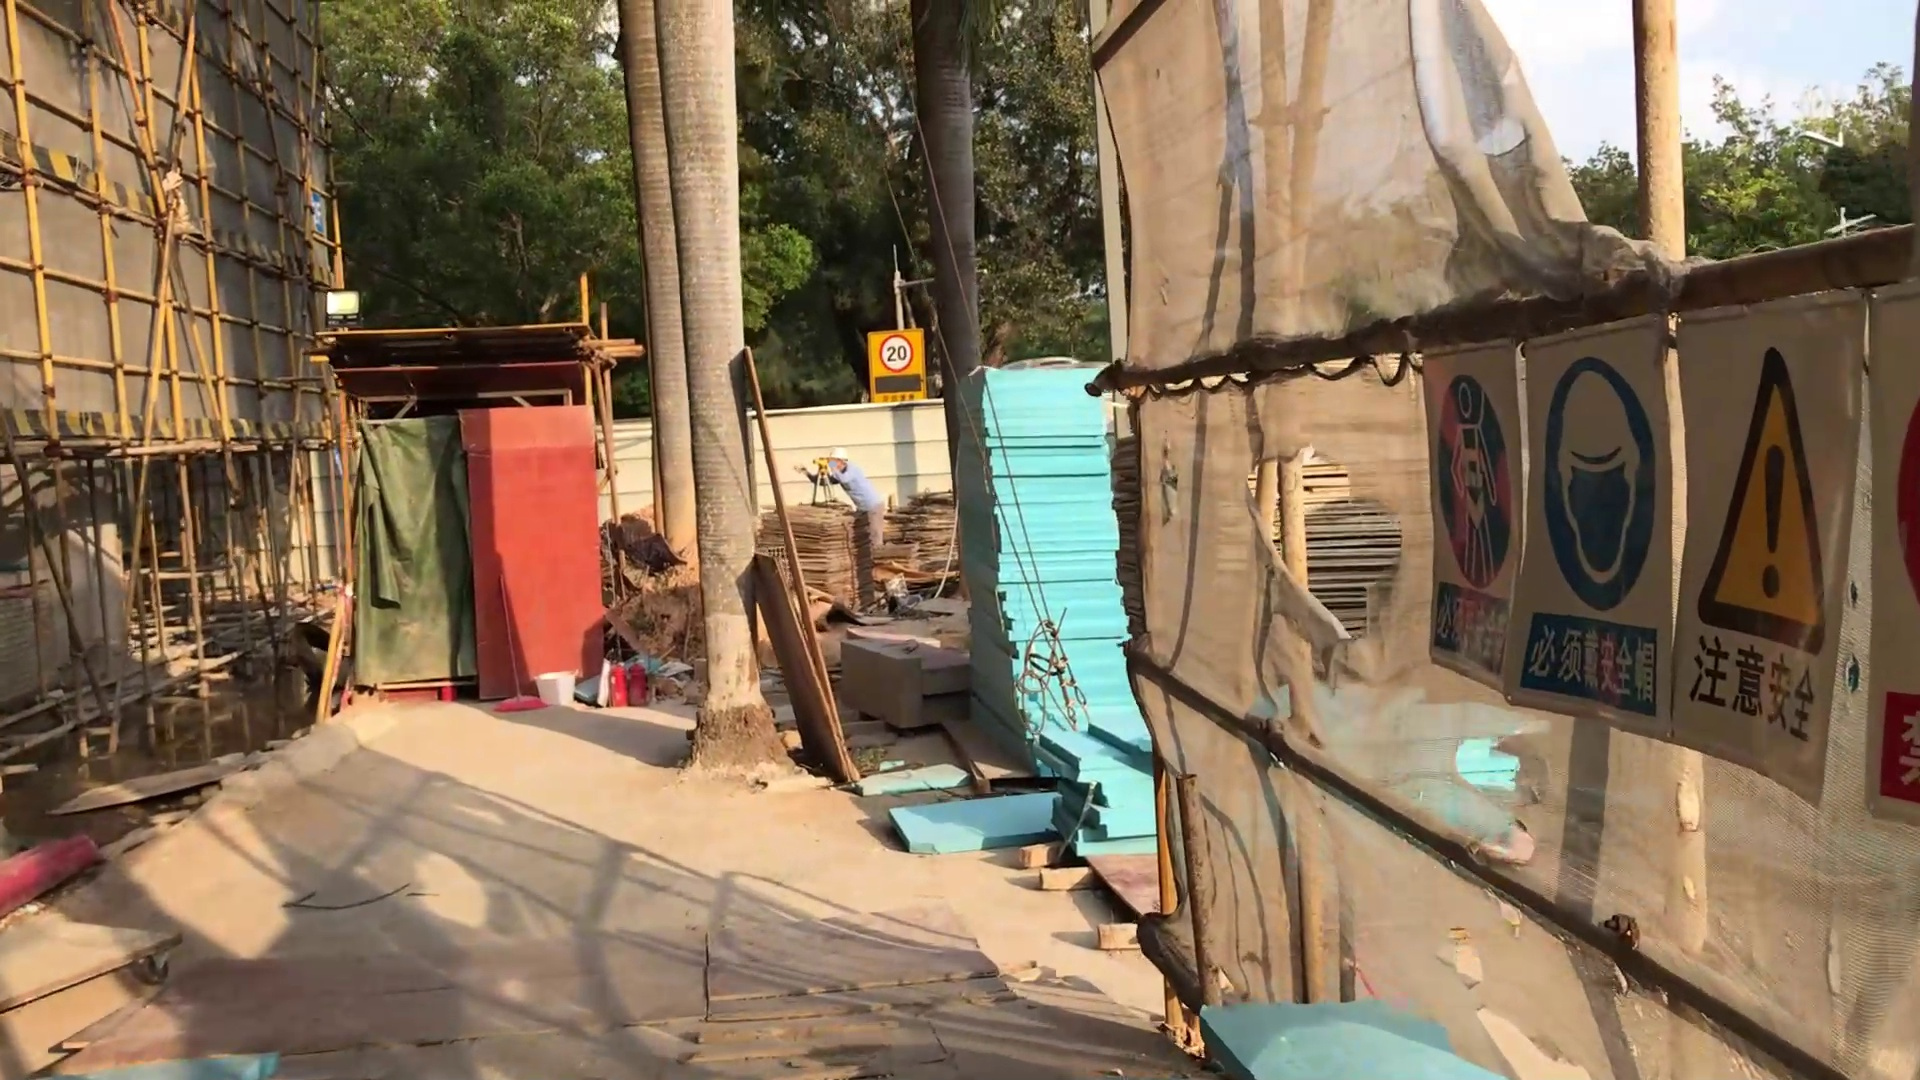board: (1250, 452, 1403, 607)
helmet: (825, 442, 850, 465)
person: (793, 442, 883, 550)
slogan: (1430, 345, 1920, 805), (870, 327, 925, 407)
